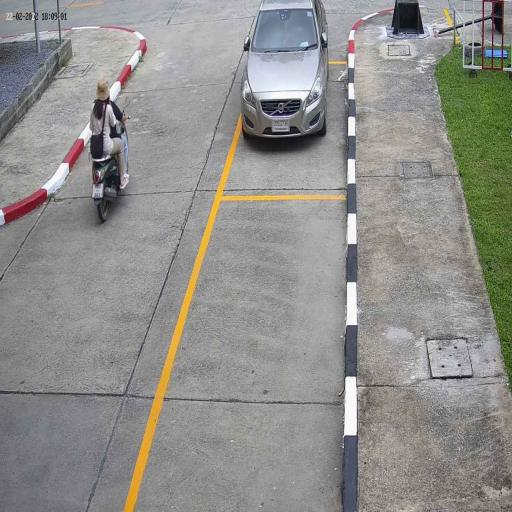car: (239, 0, 330, 144)
motorcycle: (90, 152, 120, 221)
